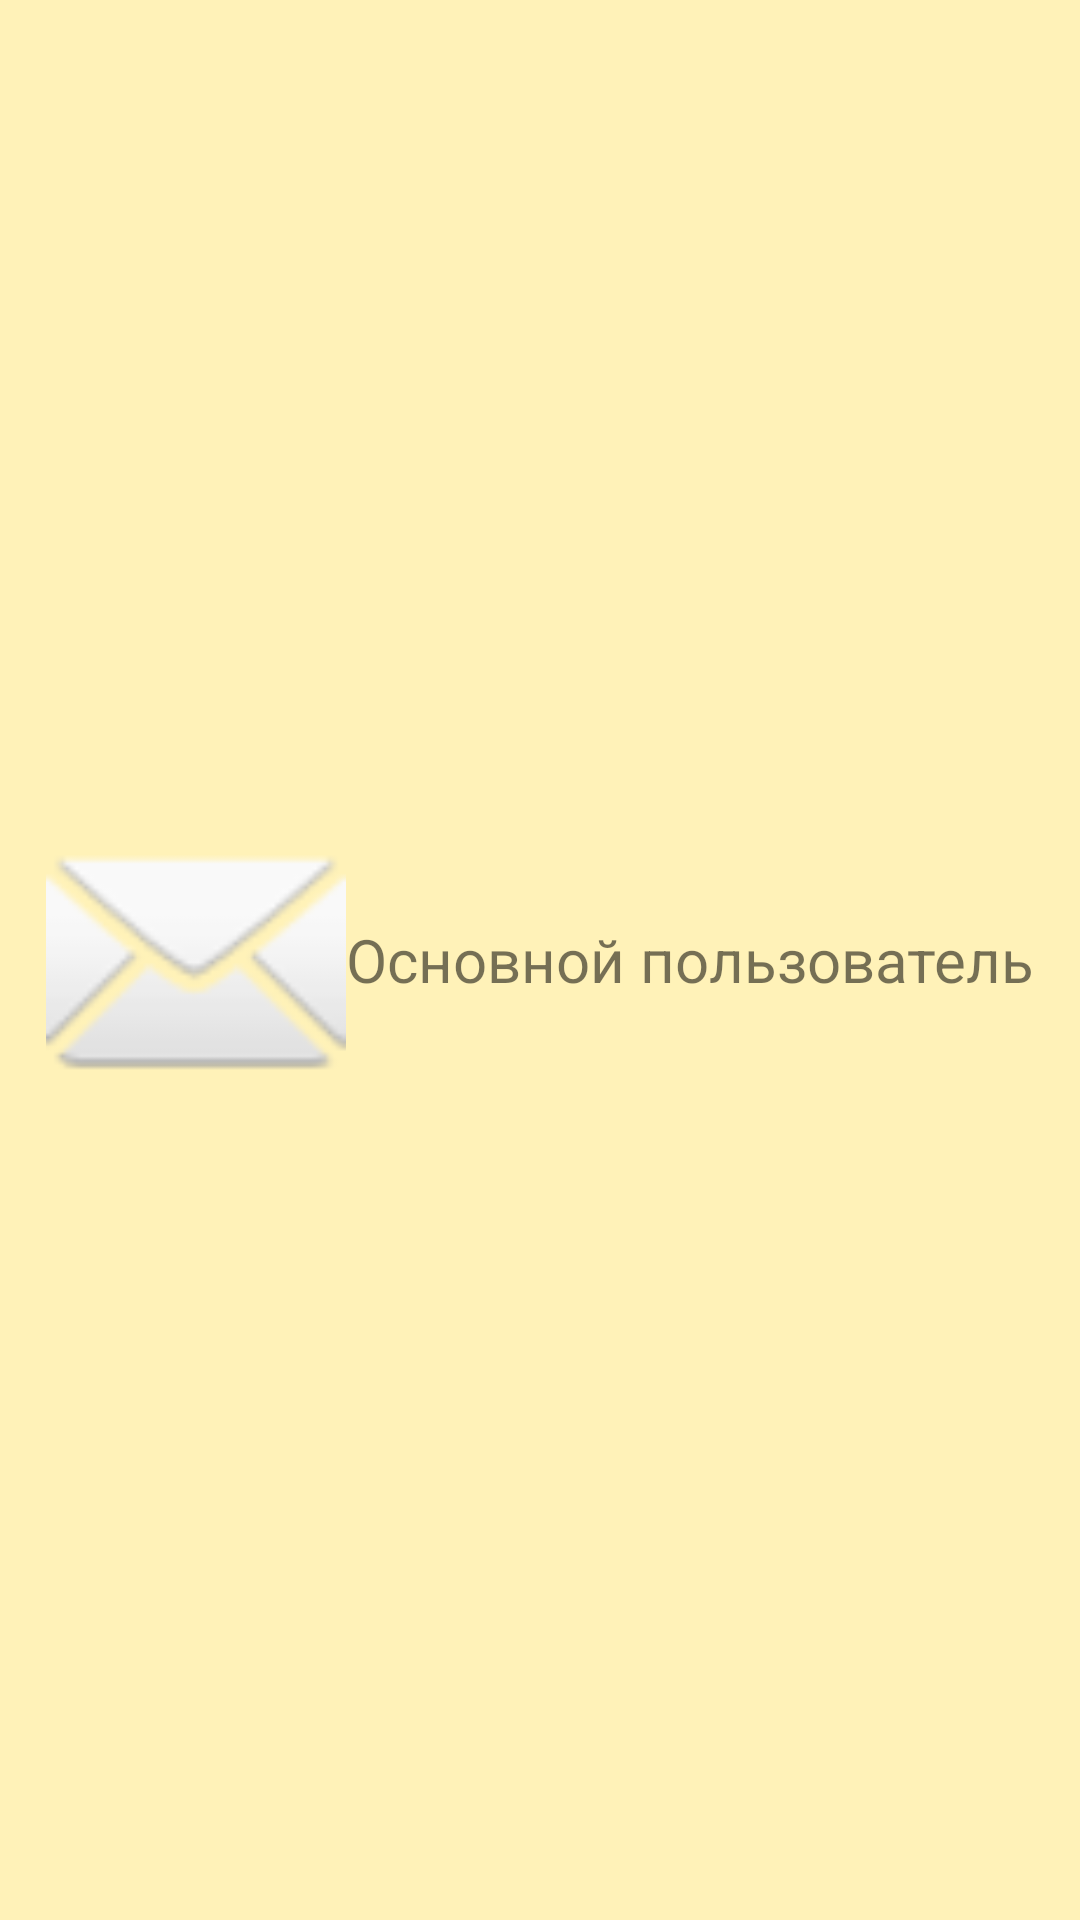

Locate icon controls on the screen. Image size 1080*1920, boxes as (x1, y1, x2, y2).
email: (46, 859, 346, 1068)
